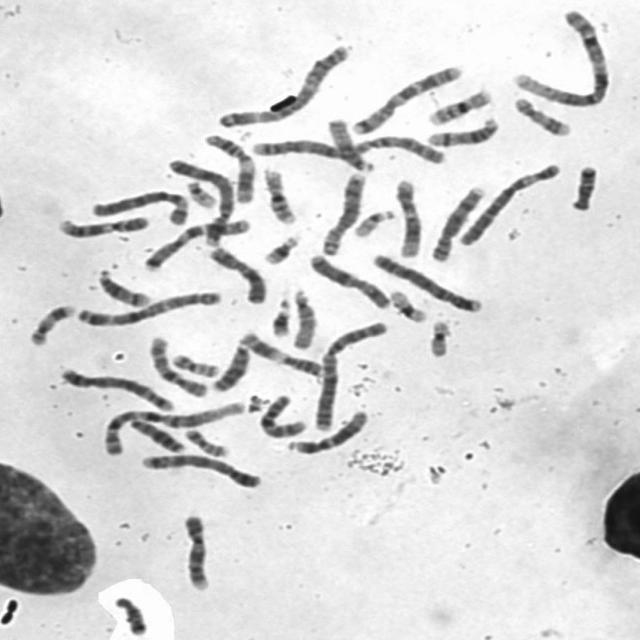A1: (508, 3, 616, 109), (97, 395, 250, 457)
A2: (310, 315, 392, 432), (246, 129, 450, 165)
A3: (212, 38, 355, 128), (72, 284, 227, 328)
B4: (367, 248, 488, 314), (163, 152, 240, 245)
B5: (55, 362, 179, 412), (135, 448, 266, 490)
C10: (143, 330, 213, 399), (254, 389, 312, 440)
C11: (235, 325, 328, 378), (199, 127, 260, 205)
C12: (284, 404, 373, 456), (390, 174, 427, 259)
C6: (454, 156, 565, 247), (87, 184, 194, 226)
C7: (346, 59, 468, 136), (137, 213, 256, 272)
C8: (425, 180, 490, 263), (316, 166, 371, 257)
C9: (53, 208, 155, 240), (177, 508, 215, 593)
D13: (206, 336, 255, 394), (122, 413, 189, 454)
D14: (423, 110, 505, 148), (92, 262, 156, 308)
D15: (324, 114, 379, 173), (286, 282, 321, 351)
E16: (423, 82, 498, 127), (258, 162, 302, 226)
E17: (509, 91, 576, 138), (24, 298, 80, 348)
E18: (566, 158, 604, 212), (108, 591, 152, 636)
F19: (384, 284, 432, 324), (423, 314, 457, 359)
F20: (179, 423, 234, 458), (166, 348, 223, 378)
G21: (258, 229, 304, 266), (266, 294, 296, 338)
G22: (349, 203, 400, 239), (181, 176, 220, 210)
X: (304, 248, 395, 310), (204, 240, 272, 306)
